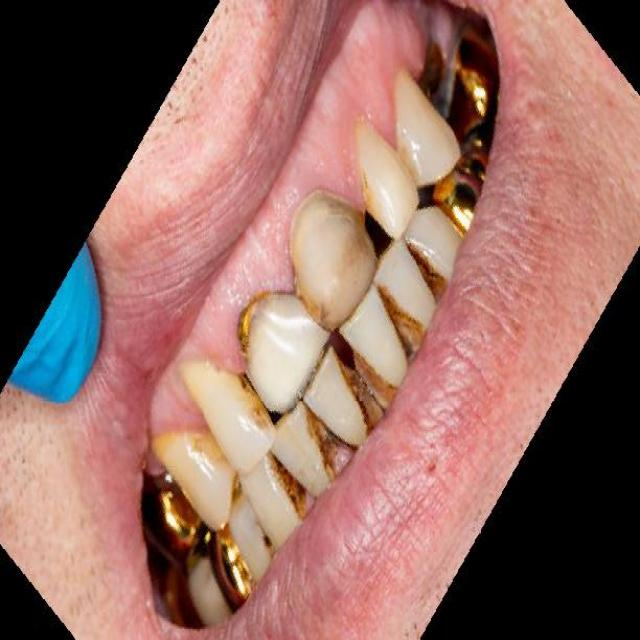calculus: (225, 293, 293, 399), (367, 267, 431, 356), (312, 355, 369, 450), (340, 318, 410, 394), (382, 233, 463, 297), (256, 450, 316, 521)
